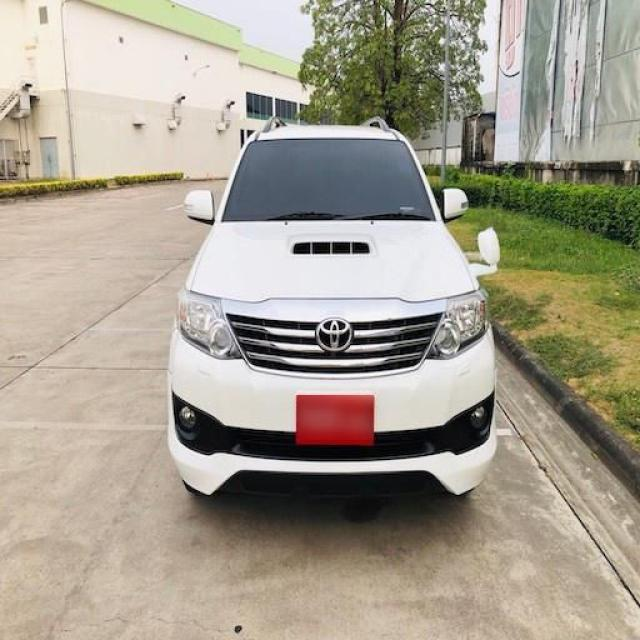front_bumper: (168, 296, 499, 498)
front_glass: (220, 138, 438, 221)
front_left_light: (427, 290, 491, 362)
front_right_light: (177, 286, 244, 361)
hood: (192, 219, 476, 304)
left_mirror: (443, 186, 470, 224)
right_mirror: (182, 190, 216, 228)
